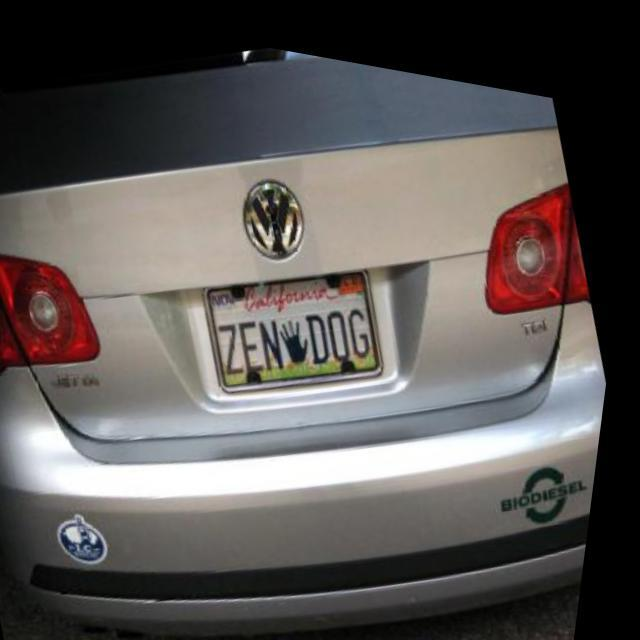license_plate: (196, 227, 408, 412)
